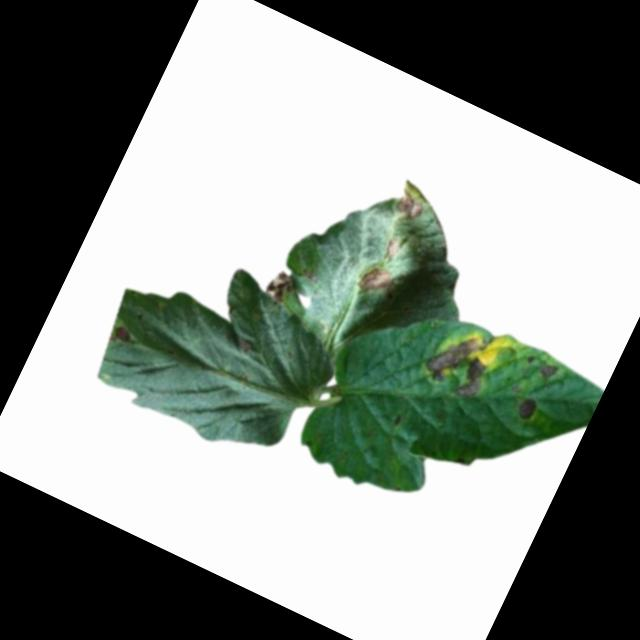Early_blight: (418, 321, 501, 405), (355, 258, 395, 300), (260, 264, 299, 307), (392, 187, 428, 222), (514, 392, 543, 425), (535, 356, 561, 387), (111, 321, 137, 347), (379, 236, 400, 263), (235, 332, 255, 355)
